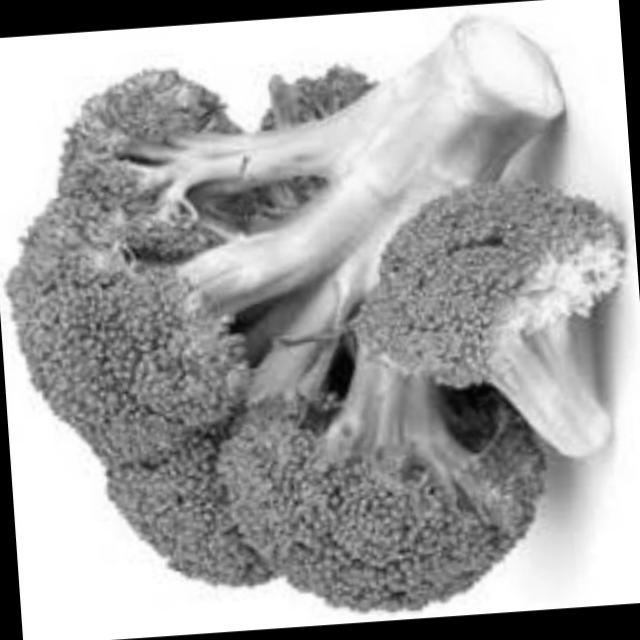bong cai xanh: (0, 5, 640, 640), (347, 160, 640, 524)
